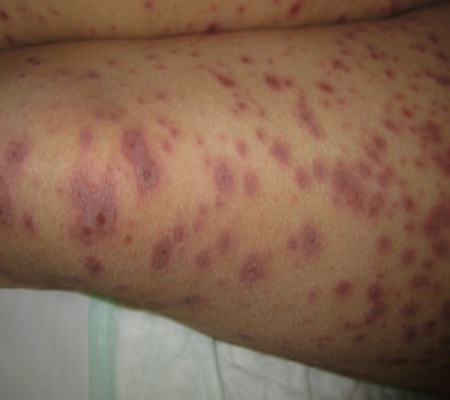SJS-TEN: (0, 9, 450, 384)
